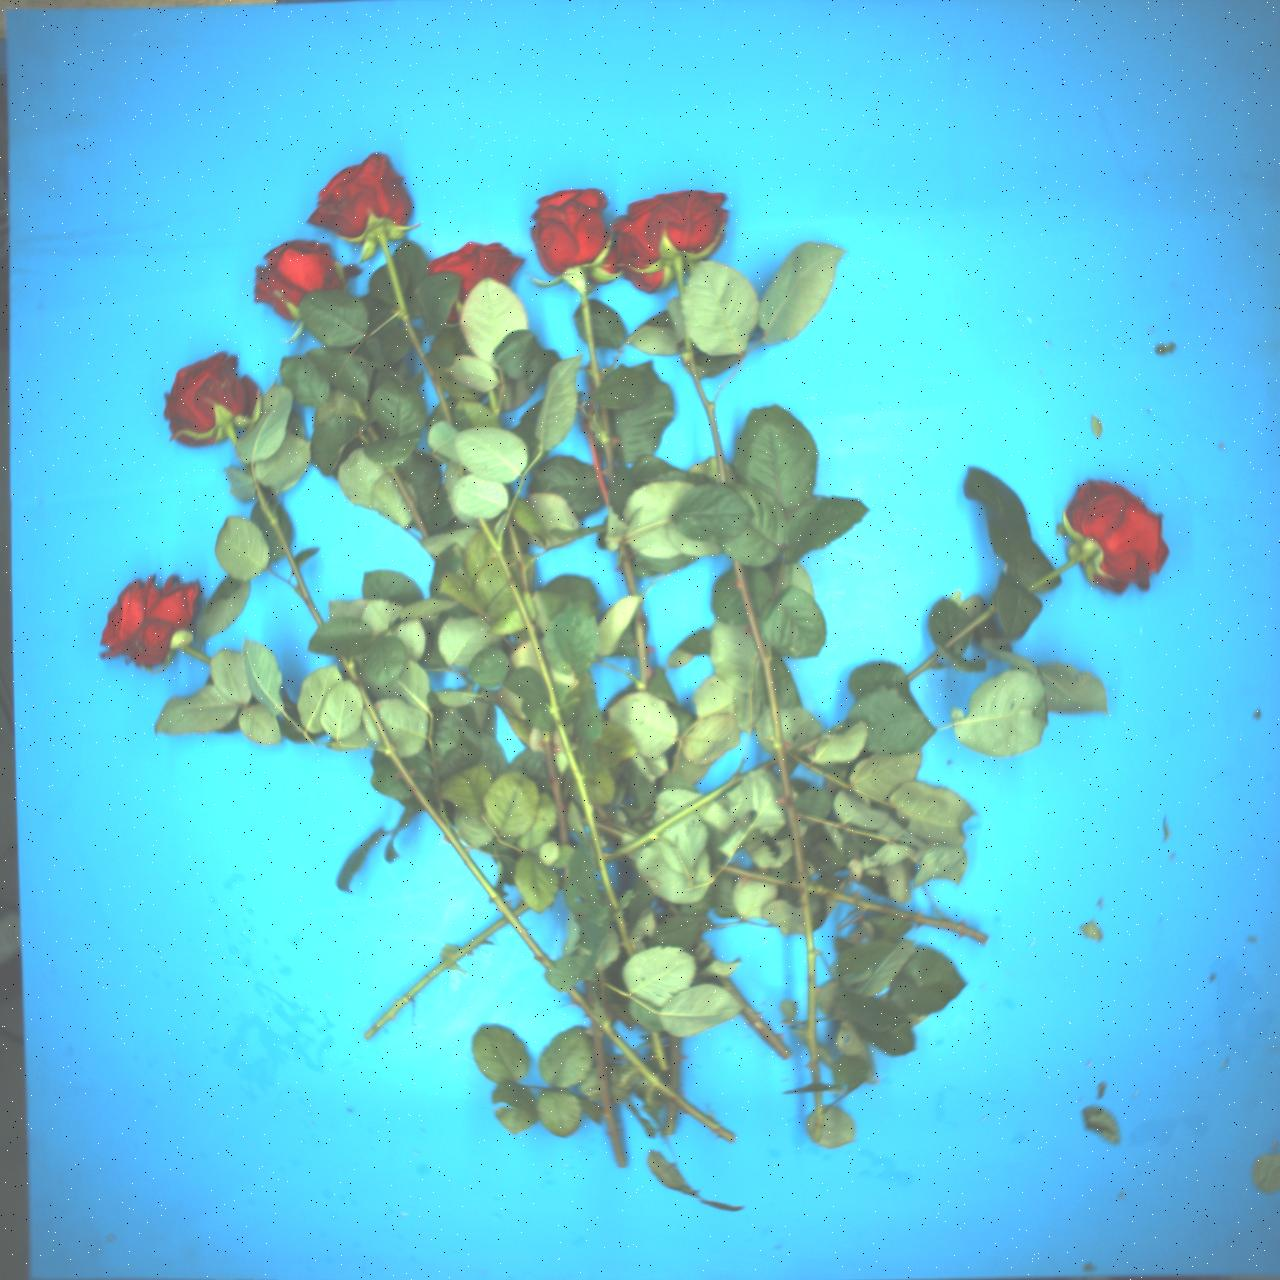Stem: (326, 653, 556, 980), (478, 515, 642, 958), (728, 557, 840, 1083), (560, 986, 738, 1151), (359, 913, 509, 1042), (368, 227, 457, 433), (604, 761, 750, 871), (806, 880, 989, 944), (253, 486, 325, 626), (674, 339, 738, 485), (713, 971, 792, 1063), (587, 1021, 628, 1169), (542, 729, 572, 847), (386, 464, 430, 539), (941, 605, 999, 649), (713, 862, 799, 890), (785, 721, 847, 760), (503, 519, 533, 594), (579, 294, 602, 388), (1026, 554, 1082, 593), (629, 606, 649, 692), (598, 403, 618, 485), (617, 545, 640, 598), (906, 651, 941, 682), (808, 1091, 828, 1142), (585, 979, 605, 1019), (651, 1032, 669, 1071), (182, 642, 212, 666), (753, 755, 781, 777), (658, 896, 683, 919), (594, 821, 625, 839), (668, 1037, 679, 1090), (349, 396, 368, 423), (673, 258, 685, 298), (223, 422, 240, 448), (665, 1102, 678, 1137), (595, 804, 613, 829), (486, 389, 499, 421), (513, 900, 531, 917), (363, 424, 379, 442), (456, 464, 467, 478), (563, 867, 568, 881)
flower: (594, 158, 748, 300), (1056, 461, 1182, 606), (142, 338, 270, 461), (294, 147, 418, 256), (411, 216, 531, 328), (96, 560, 206, 679), (238, 223, 352, 331), (529, 188, 618, 278)
